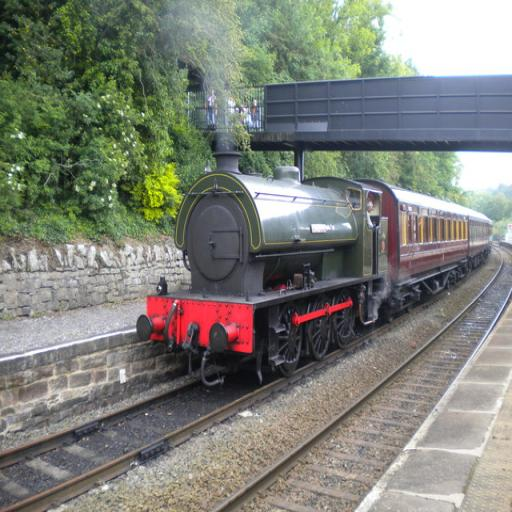platform_edge: (352, 292, 511, 512)
